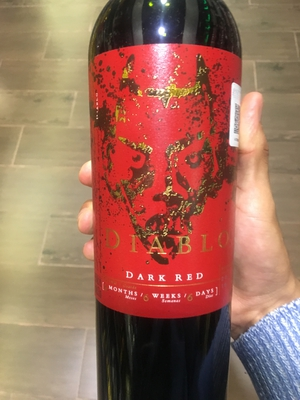diablo dark red: (88, 9, 252, 400)
